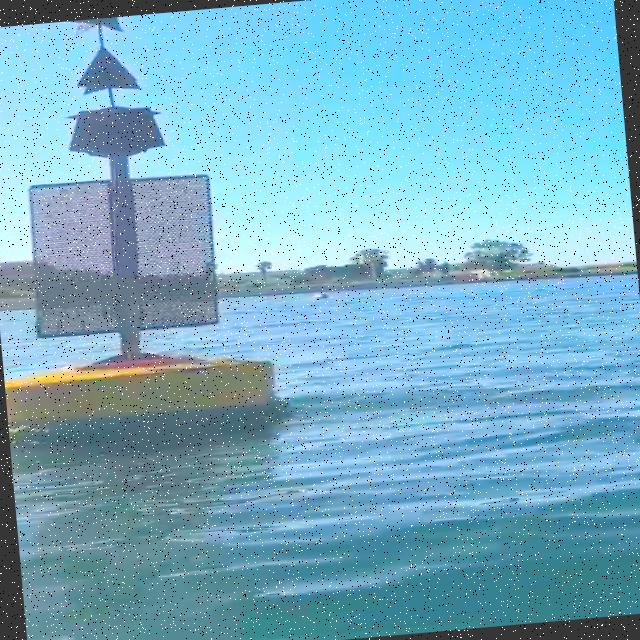marque: (1, 7, 267, 458)
